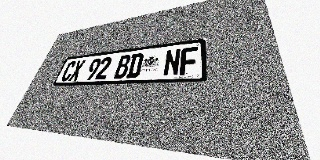2: (95, 57, 113, 80)
9: (84, 58, 102, 80)
B: (113, 54, 132, 79)
C: (60, 61, 77, 81)
D: (126, 53, 144, 78)
F: (179, 46, 198, 75)
N: (163, 48, 181, 76)
X: (68, 60, 86, 81)
